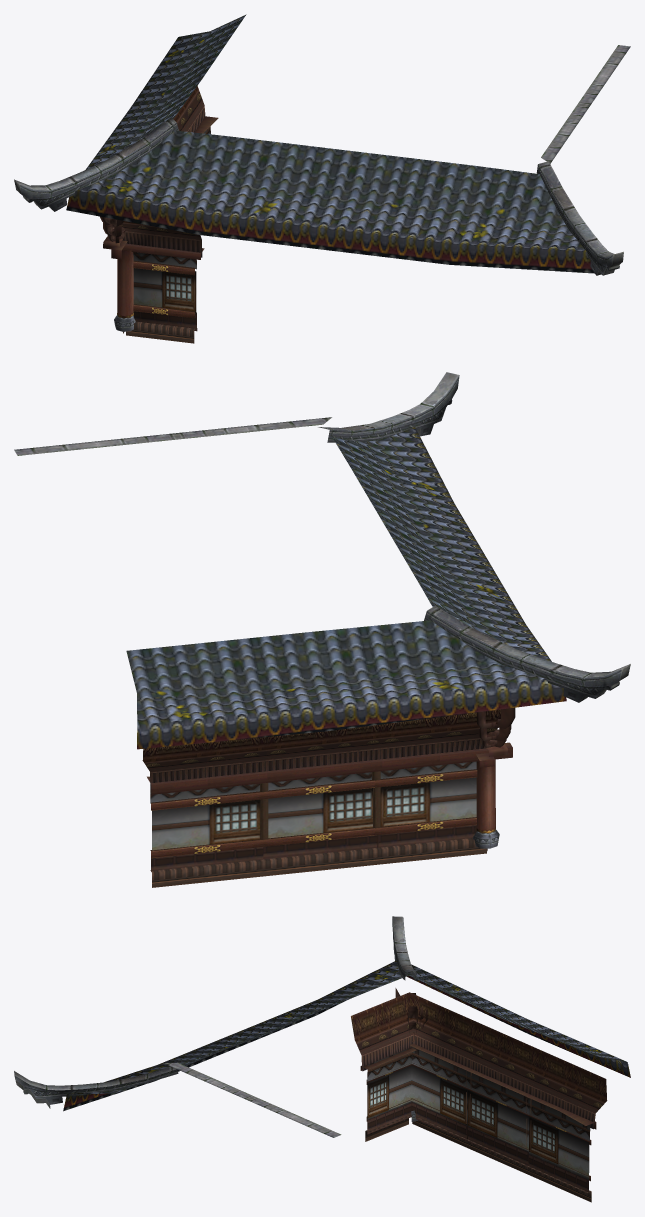
The model's file is S2_Build_XSC058_H5.FBX.
3 views of the same model, one above another, from view 1: azimuth 30°, elevation 25°; view 2: azimuth 150°, elevation 25°; view 3: azimuth 270°, elevation 25° (orthographic). The views are drawn at different scales.
Visible parts, largest first — view 1: S2_Build_XSC058_H5; view 2: S2_Build_XSC058_H5; view 3: S2_Build_XSC058_H5.
Boxes of the visible parts, <box> form: S2_Build_XSC058_H5: <box>14,14,630,343</box>; S2_Build_XSC058_H5: <box>14,372,630,887</box>; S2_Build_XSC058_H5: <box>14,916,630,1202</box>.
Bounding box in the file's own units: 7847 × 2712 × 8503.
